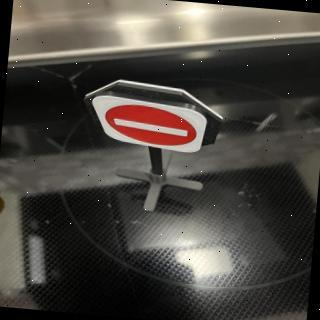sign_noentry: (89, 92, 214, 157)
